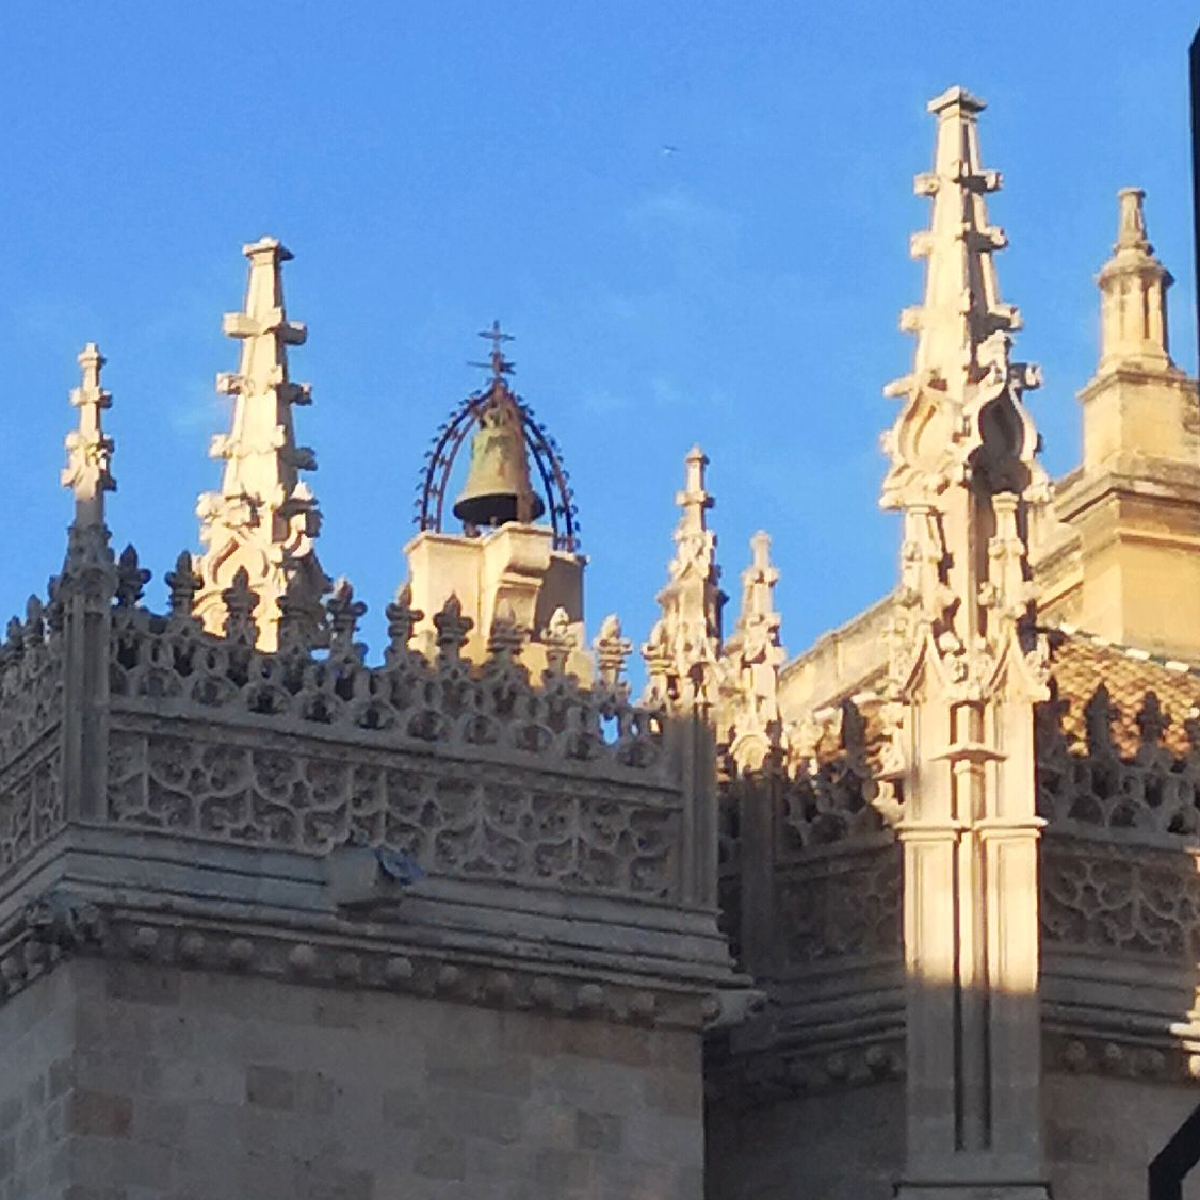pinaculo-gotico: (886, 73, 1026, 437), (200, 235, 333, 589), (642, 431, 733, 668), (46, 324, 133, 564)
